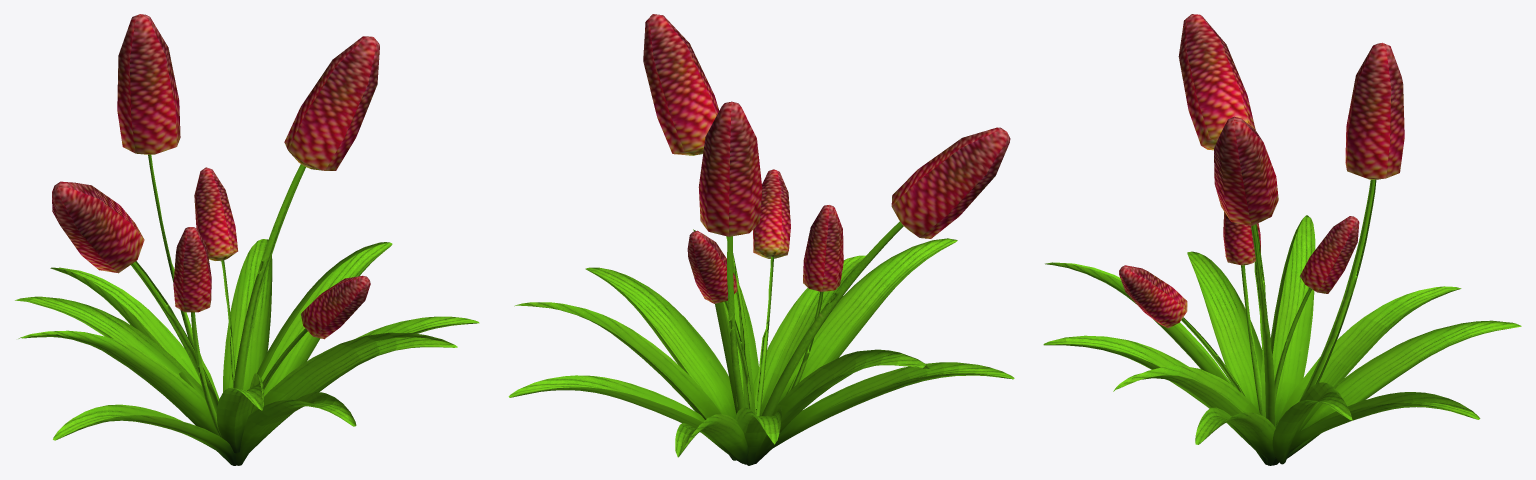
File: torchflower.fbx
The picture shows the model from 3 angles, left to right: view 1: azimuth 30°, elevation 25°; view 2: azimuth 150°, elevation 25°; view 3: azimuth 270°, elevation 25°; orthographic projection. The views are drawn at different scales.
Parts seen in each view (by area): view 1: torchflr; view 2: torchflr; view 3: torchflr.
Boxes of the visible parts, x1,y1,x2,y2 form: torchflr: (15,14,479,465); torchflr: (508,14,1014,465); torchflr: (1043,14,1521,465).
Size of the model in its own units: 333 by 309 by 332.
